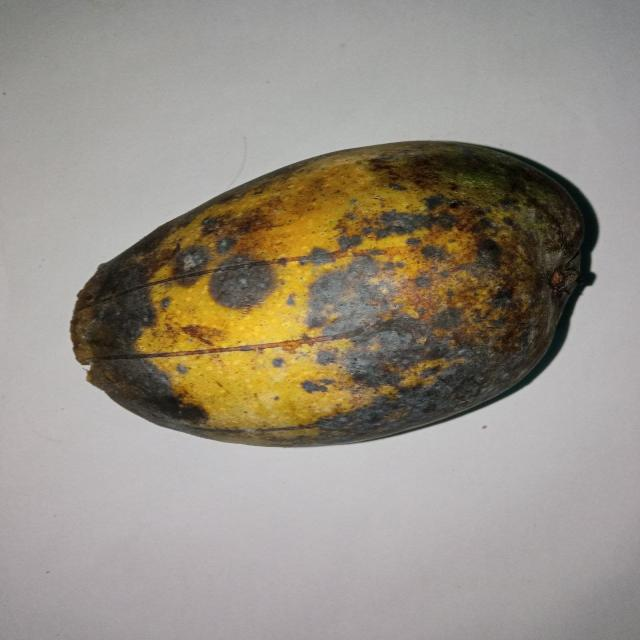rotten_mango: (70, 142, 586, 442)
